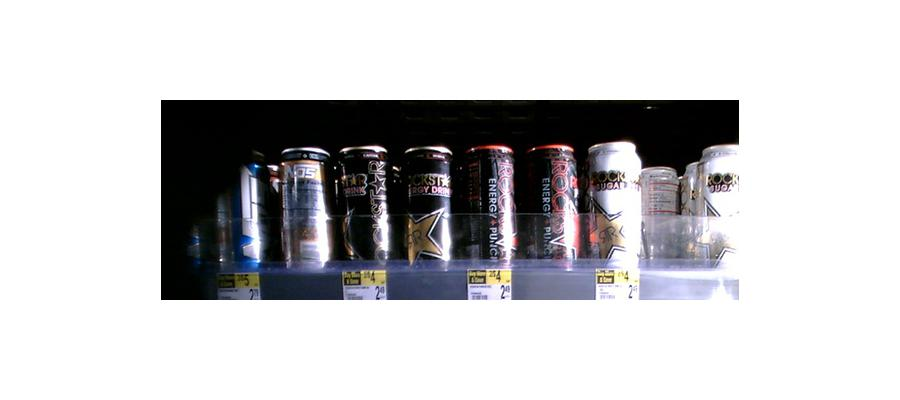bottle: (688, 143, 748, 258), (589, 142, 643, 268), (333, 146, 389, 266), (399, 144, 453, 268), (277, 145, 331, 269), (464, 147, 516, 270), (527, 144, 578, 266), (237, 147, 275, 280), (646, 165, 687, 264)
